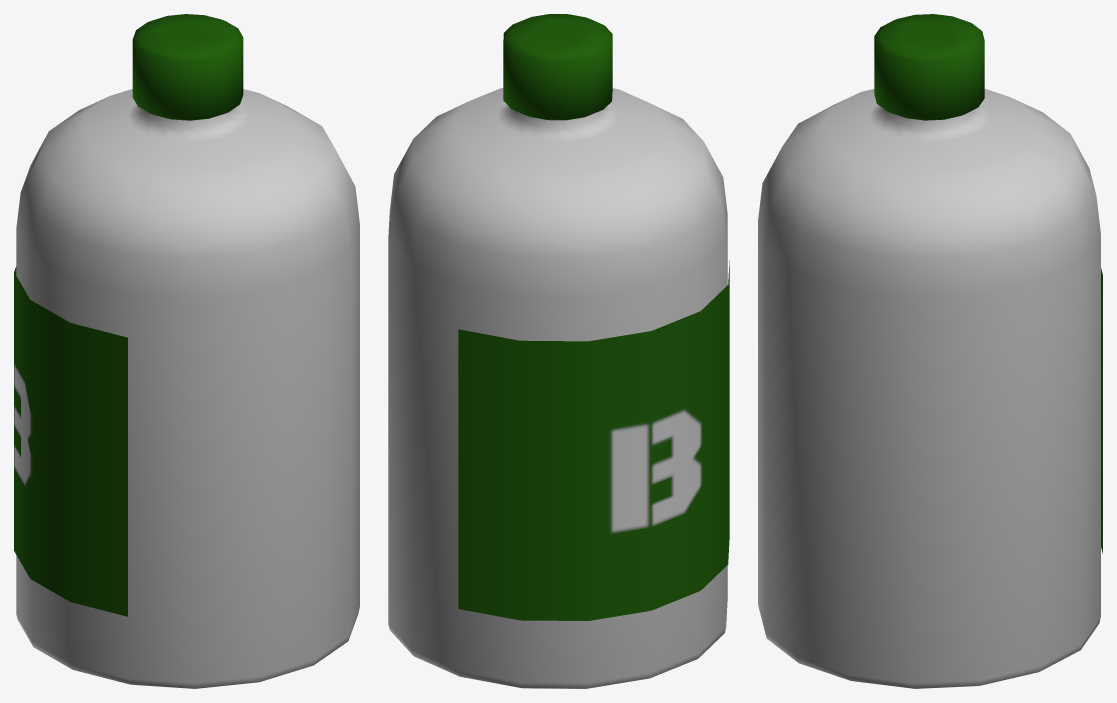
Rendered from BottleB.fbx.
The picture shows the model from 3 angles, left to right: view 1: azimuth 30°, elevation 25°; view 2: azimuth 150°, elevation 25°; view 3: azimuth 270°, elevation 25°; orthographic projection.
Visible parts, largest first — view 1: BottleB; view 2: BottleB; view 3: BottleB.
Boxes of the visible parts, x1,y1,x2,y2 form: BottleB: (14,14,359,688); BottleB: (388,14,729,688); BottleB: (758,14,1102,688).
Bounding box in the file's own units: 16.73 × 31.45 × 16.73.
